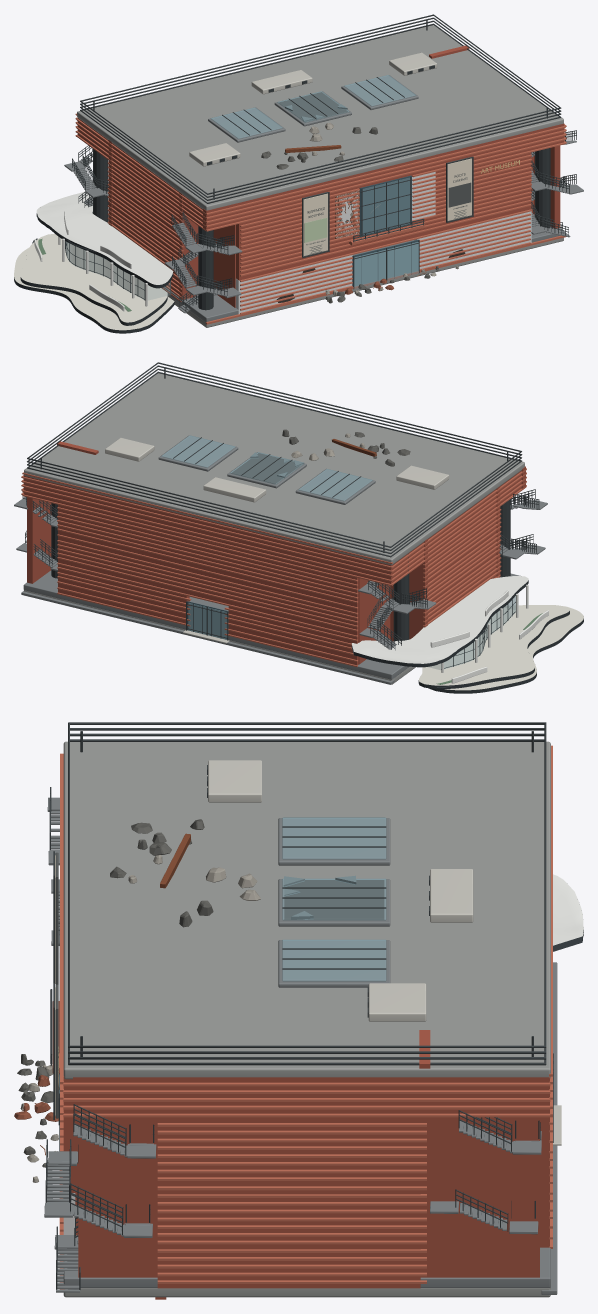
File: 美术馆(1).fbx
3 renders of one model, top to bottom at view 1: azimuth 30°, elevation 25°; view 2: azimuth 150°, elevation 25°; view 3: azimuth 270°, elevation 25°, orthographic. The views are drawn at different scales.
Parts seen in each view (by area): view 1: Upper roof deck, Lower waterside terrace, Front wing right.003, Middle shop roof promenade, Front wing right, Front wing right.004, Front lower terracotta panel right.001, Front upper central glazing, Front lower terracotta panel right, Upper pale roof terrace, Front upper inner glass, Roof perimeter guardrail.003 (+41 smaller); view 2: Upper roof deck, Right elevation upper terracotta wing right.001, Right elevation upper terracotta wing right, Lower waterside terrace, Middle shop roof promenade, Front wing right.004, Upper floor roof slab, Right elevation upper terracotta sill band, Roof perimeter guardrail.003, Roof perimeter guardrail.002, Roof perimeter guardrail.001, Roof perimeter guardrail (+48 smaller); view 3: Upper roof deck, Front wing right.002, Front wing right.001, Roof skylight curb, Roof skylight curb.002, Upper roof deck.001, Roof skylight glass, Roof skylight glass.002, Roof perimeter guardrail.003, Roof skylight glass.001 | shattered backup, Open dark roof skylight, Roof perimeter guardrail.001 (+40 smaller).
Boxes of the visible parts, bbox=[...] form: Upper roof deck: bbox=[77, 25, 563, 210]; Lower waterside terrace: bbox=[20, 234, 167, 325]; Front wing right.003: bbox=[203, 179, 334, 280]; Middle shop roof promenade: bbox=[36, 191, 173, 288]; Front wing right: bbox=[435, 123, 564, 232]; Front wing right.004: bbox=[77, 118, 202, 296]; Front lower terracotta panel right.001: bbox=[235, 255, 352, 313]; Front upper central glazing: bbox=[359, 175, 411, 236]; Front lower terracotta panel right: bbox=[414, 209, 531, 268]; Upper pale roof terrace: bbox=[14, 248, 174, 333]; Front upper inner glass: bbox=[361, 177, 410, 234]; Roof perimeter guardrail.003: bbox=[80, 14, 561, 194]; Upper roof deck: bbox=[24, 373, 524, 565]; Right elevation upper terracotta wing right.001: bbox=[228, 527, 391, 665]; Right elevation upper terracotta wing right: bbox=[24, 475, 189, 623]; Lower waterside terrace: bbox=[418, 605, 569, 688]; Middle shop roof promenade: bbox=[351, 576, 528, 667]; Front wing right.004: bbox=[391, 470, 521, 621]; Upper floor roof slab: bbox=[23, 570, 520, 679]; Right elevation upper terracotta sill band: bbox=[179, 535, 235, 605]; Roof perimeter guardrail.003: bbox=[27, 362, 521, 547]; Roof perimeter guardrail.002: bbox=[27, 365, 522, 550]; Roof perimeter guardrail.001: bbox=[27, 368, 521, 553]; Roof perimeter guardrail: bbox=[27, 371, 521, 557]; Upper roof deck: bbox=[63, 741, 550, 1079]; Front wing right.002: bbox=[73, 1077, 549, 1288]; Front wing right.001: bbox=[78, 1117, 539, 1277]; Roof skylight curb: bbox=[278, 818, 390, 865]; Roof skylight curb.002: bbox=[278, 940, 390, 987]; Upper roof deck.001: bbox=[63, 1287, 550, 1297]; Roof skylight glass: bbox=[282, 817, 386, 859]; Roof skylight glass.002: bbox=[282, 939, 386, 981]; Roof perimeter guardrail.003: bbox=[68, 722, 546, 1047]; Roof skylight glass.001 | shattered backup: bbox=[282, 878, 386, 920]; Open dark roof skylight: bbox=[284, 880, 384, 919]; Roof perimeter guardrail.001: bbox=[68, 733, 546, 1059].
Bounding box in the file's own units: 5675 × 1543 × 3159.
